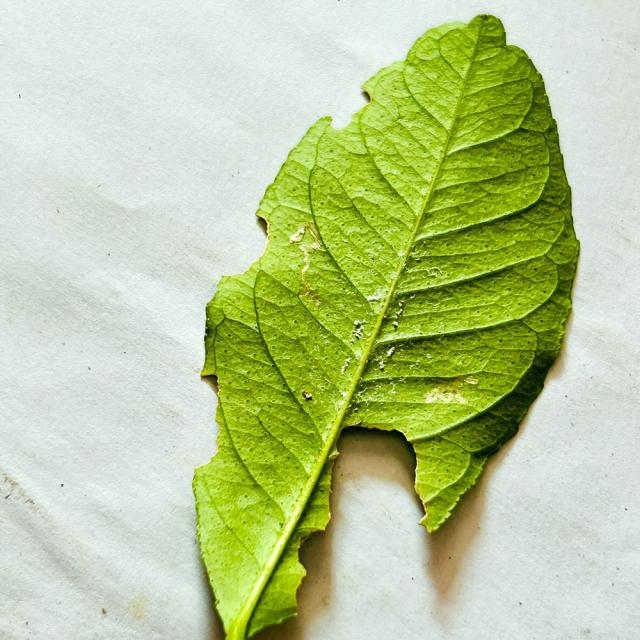Deficiency Leaf: (239, 430, 436, 639), (210, 206, 266, 275), (189, 376, 218, 468), (331, 86, 369, 129)
Lemon: (193, 15, 579, 639)
